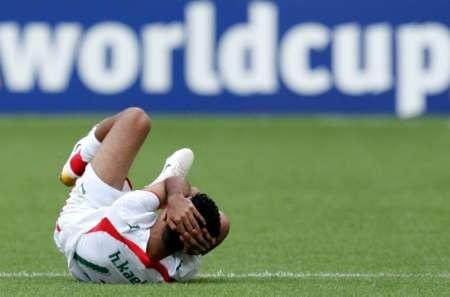falling: (44, 94, 231, 289)
